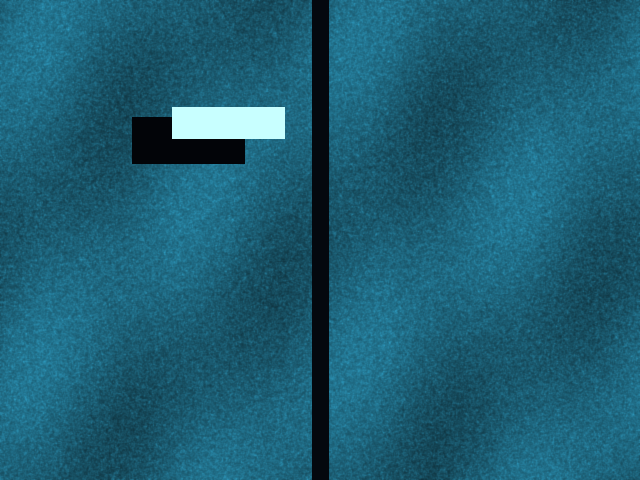Metal Object: (172, 107, 284, 138)
